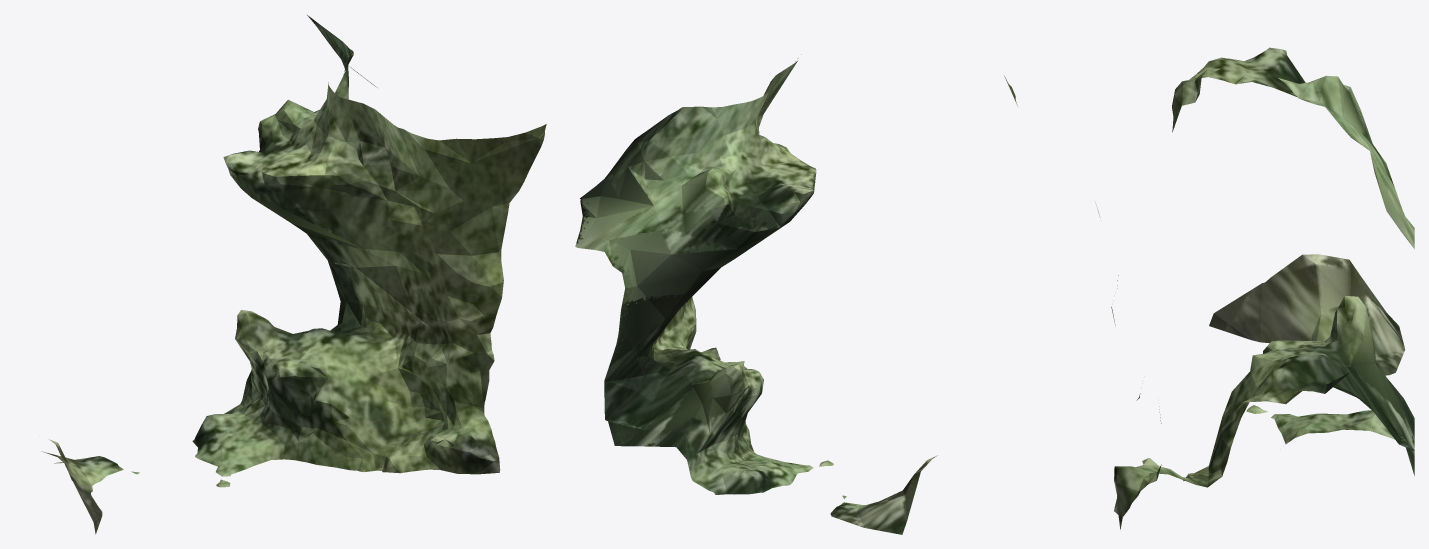
3 renders of one model, left to right at view 1: azimuth 30°, elevation 25°; view 2: azimuth 150°, elevation 25°; view 3: azimuth 270°, elevation 25°, orthographic. The views are drawn at different scales.
Size of the model in its own units: 5.9 by 5.9 by 4.92.
Materials: 3 (3 with a texture image).
